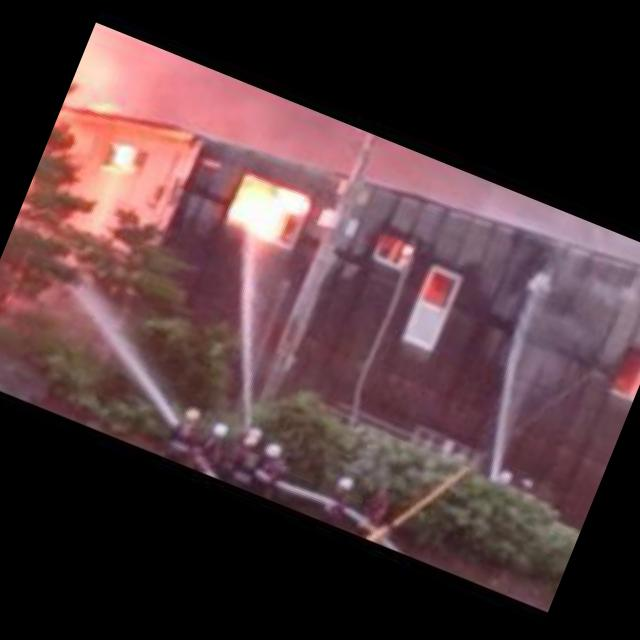fire: (224, 170, 312, 250)
